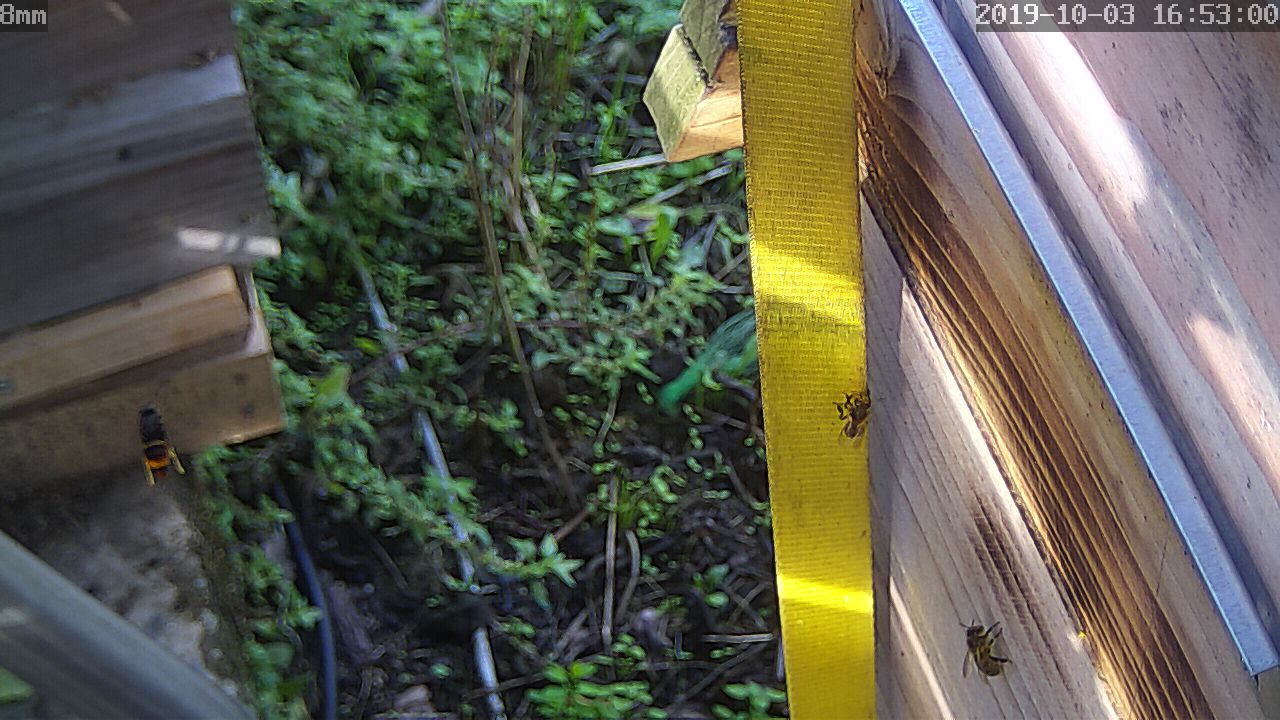bee: (959, 615, 1009, 689), (835, 384, 871, 441)
hornet: (122, 404, 183, 489)
